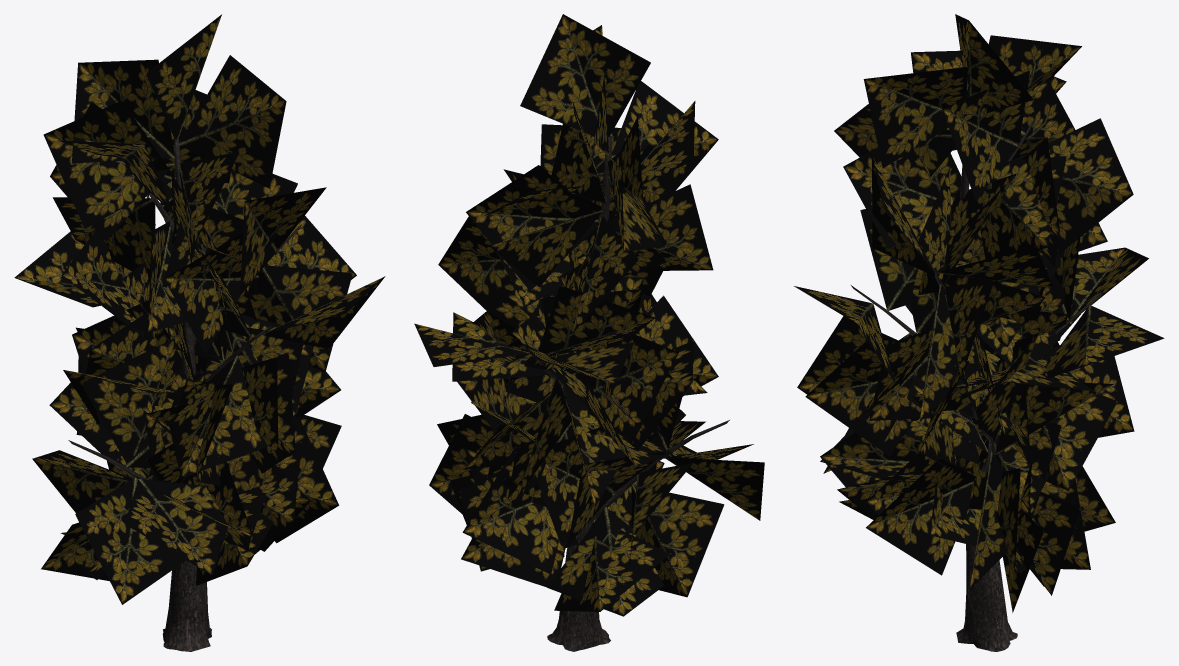
File: tree_7.glb
3 views of the same model, side by side, from view 1: azimuth 30°, elevation 25°; view 2: azimuth 150°, elevation 25°; view 3: azimuth 270°, elevation 25° (orthographic). The views are drawn at different scales.
Parts seen in each view (by area): view 1: tree_7_leaves, tree_7; view 2: tree_7_leaves, tree_7; view 3: tree_7_leaves, tree_7.
Boxes of the visible parts, bbox=[...] form: tree_7_leaves: bbox=[14, 14, 385, 604]; tree_7: bbox=[68, 138, 301, 651]; tree_7_leaves: bbox=[414, 14, 764, 616]; tree_7: bbox=[526, 135, 729, 651]; tree_7_leaves: bbox=[794, 14, 1164, 612]; tree_7: bbox=[851, 115, 1103, 651].
Bounding box in the file's own units: 4.27 × 8.29 × 4.43.
Materials: 2 (2 with a texture image).
